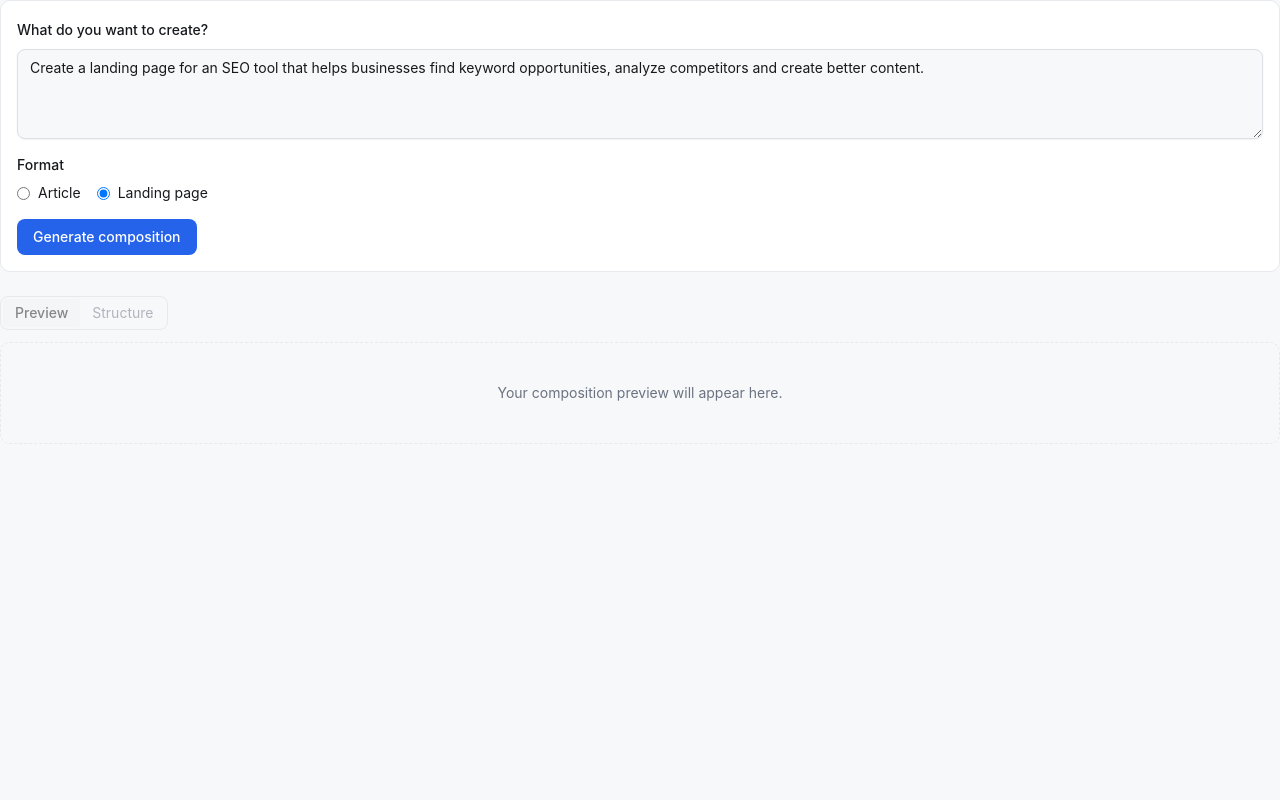
it: Compose › renders the Writer copy with the existing CanonicalRenderer
Step 1. Click the button "Generate composition" → click(107, 237), box [17,219,196,255]
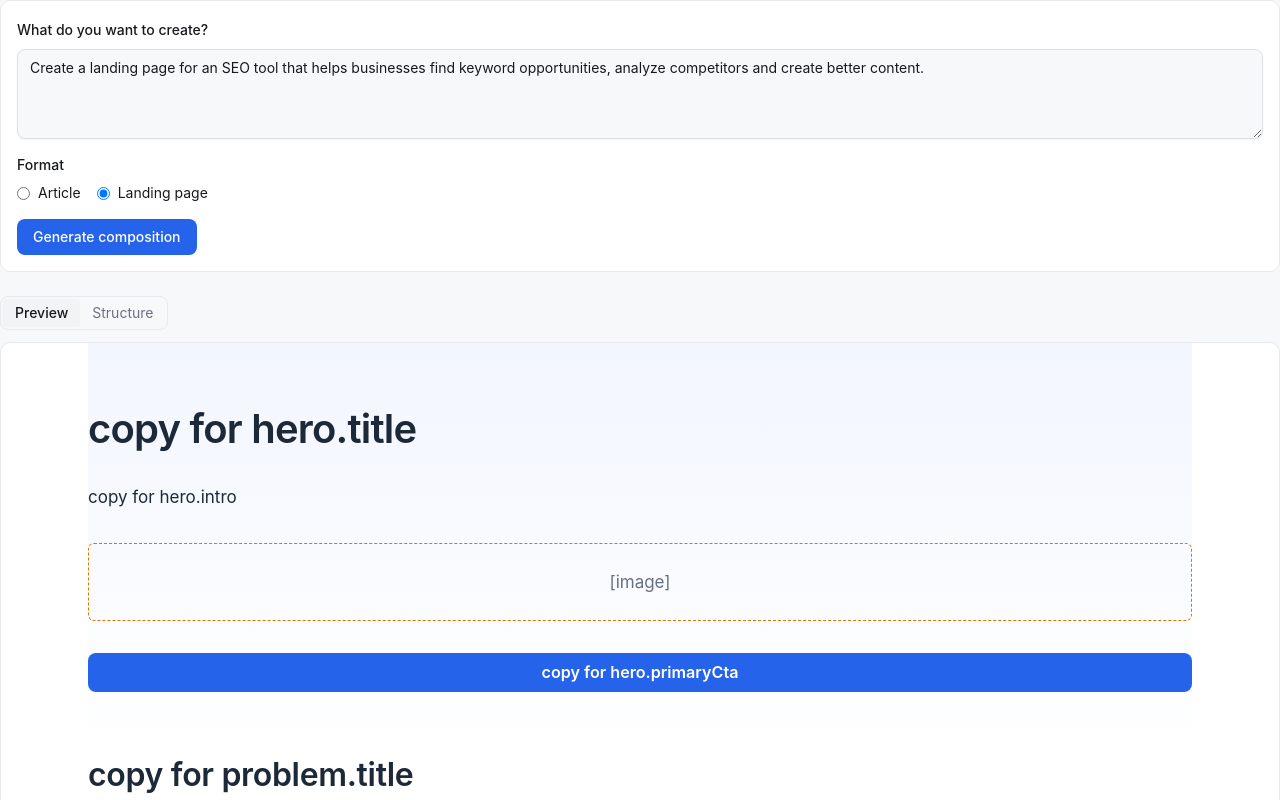
Check: the heading "copy for hero.title" is shown, box [88,404,416,453]
Check: the button "copy for hero.primaryCta" is shown, box [88,653,1192,692]
Check: the element with class "cosmos-hero--split" is shown, box [88,343,1192,756]
